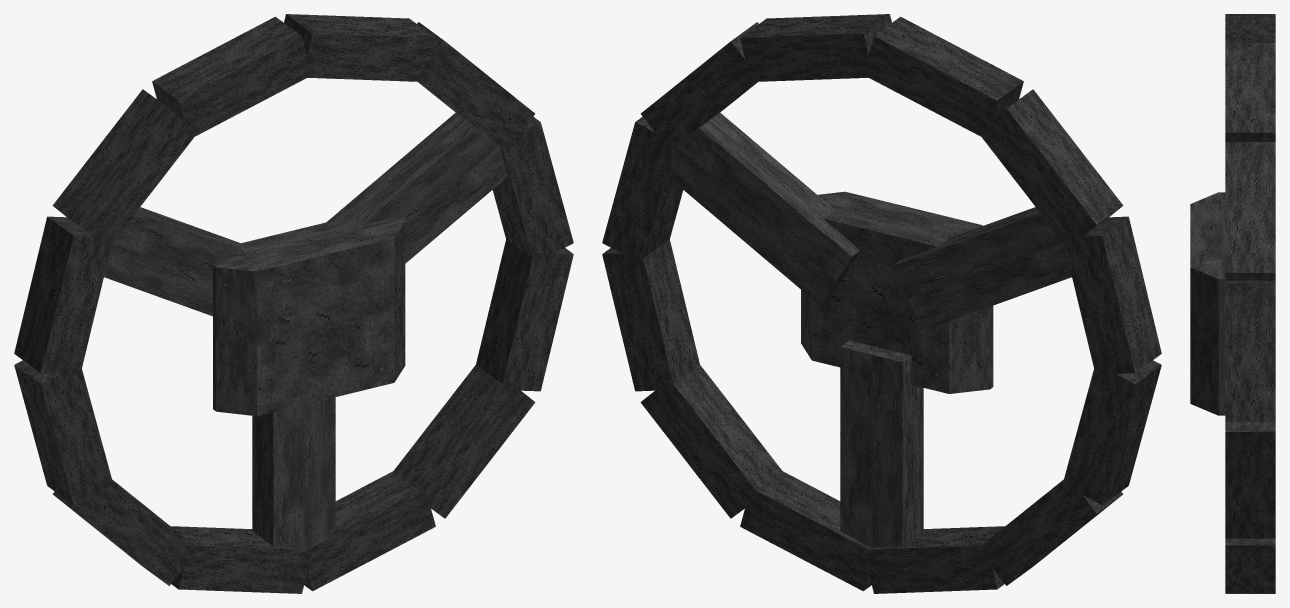
File: steering_wheel.glb
The picture shows the model from 3 angles, left to right: view 1: azimuth 30°, elevation 25°; view 2: azimuth 150°, elevation 25°; view 3: azimuth 270°, elevation 25°; orthographic projection. The views are drawn at different scales.
Parts seen in each view (by area): view 1: Body; view 2: Body; view 3: Body.
Boxes of the visible parts, x1,y1,x2,y2 form: Body: (14, 14, 573, 593); Body: (602, 14, 1161, 593); Body: (1190, 14, 1275, 593).
Bounding box in the file's own units: 0.3241 × 0.3241 × 0.0475.
Materials: 1 (1 with a texture image).
